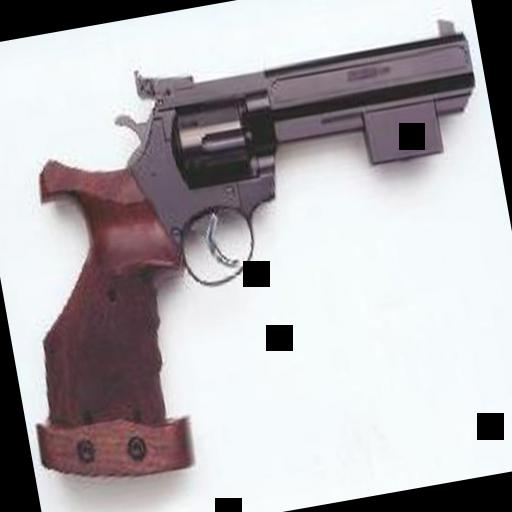Handgun: (0, 12, 512, 482)
